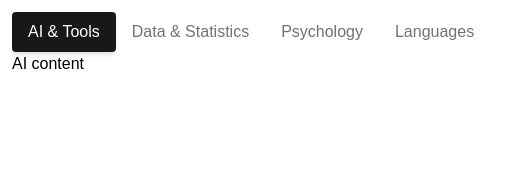
Test: source page interaction lifecycle › selects all four certification panels through clicks and arrow keys
Click the tab "Data & Statistics". click: (190, 32)
box: [116,12,265,52]
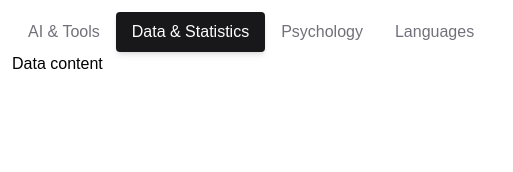
Press ArrowRight in the tab "Data & Statistics", box [116,12,265,52]
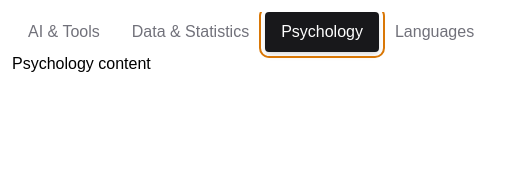
Expected: the tab "Psychology" is selected
Press End in the tab "Psychology", box [265,12,379,52]
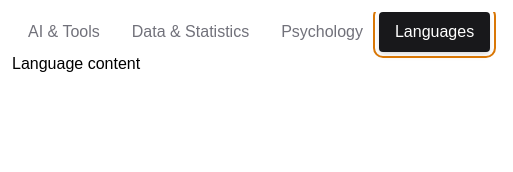
Expected: the panel named "Languages" is shown, [12,55,140,72]
